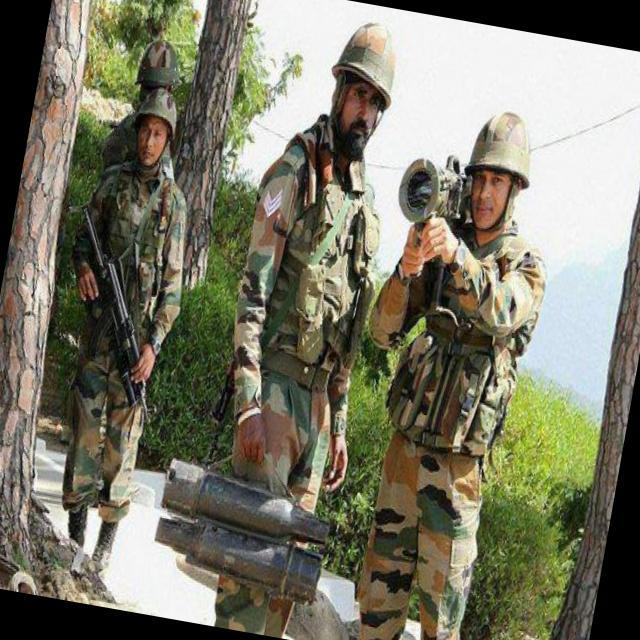rocket: (147, 448, 341, 604)
